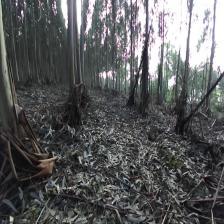trunk: (67, 3, 77, 100), (206, 21, 215, 94)
